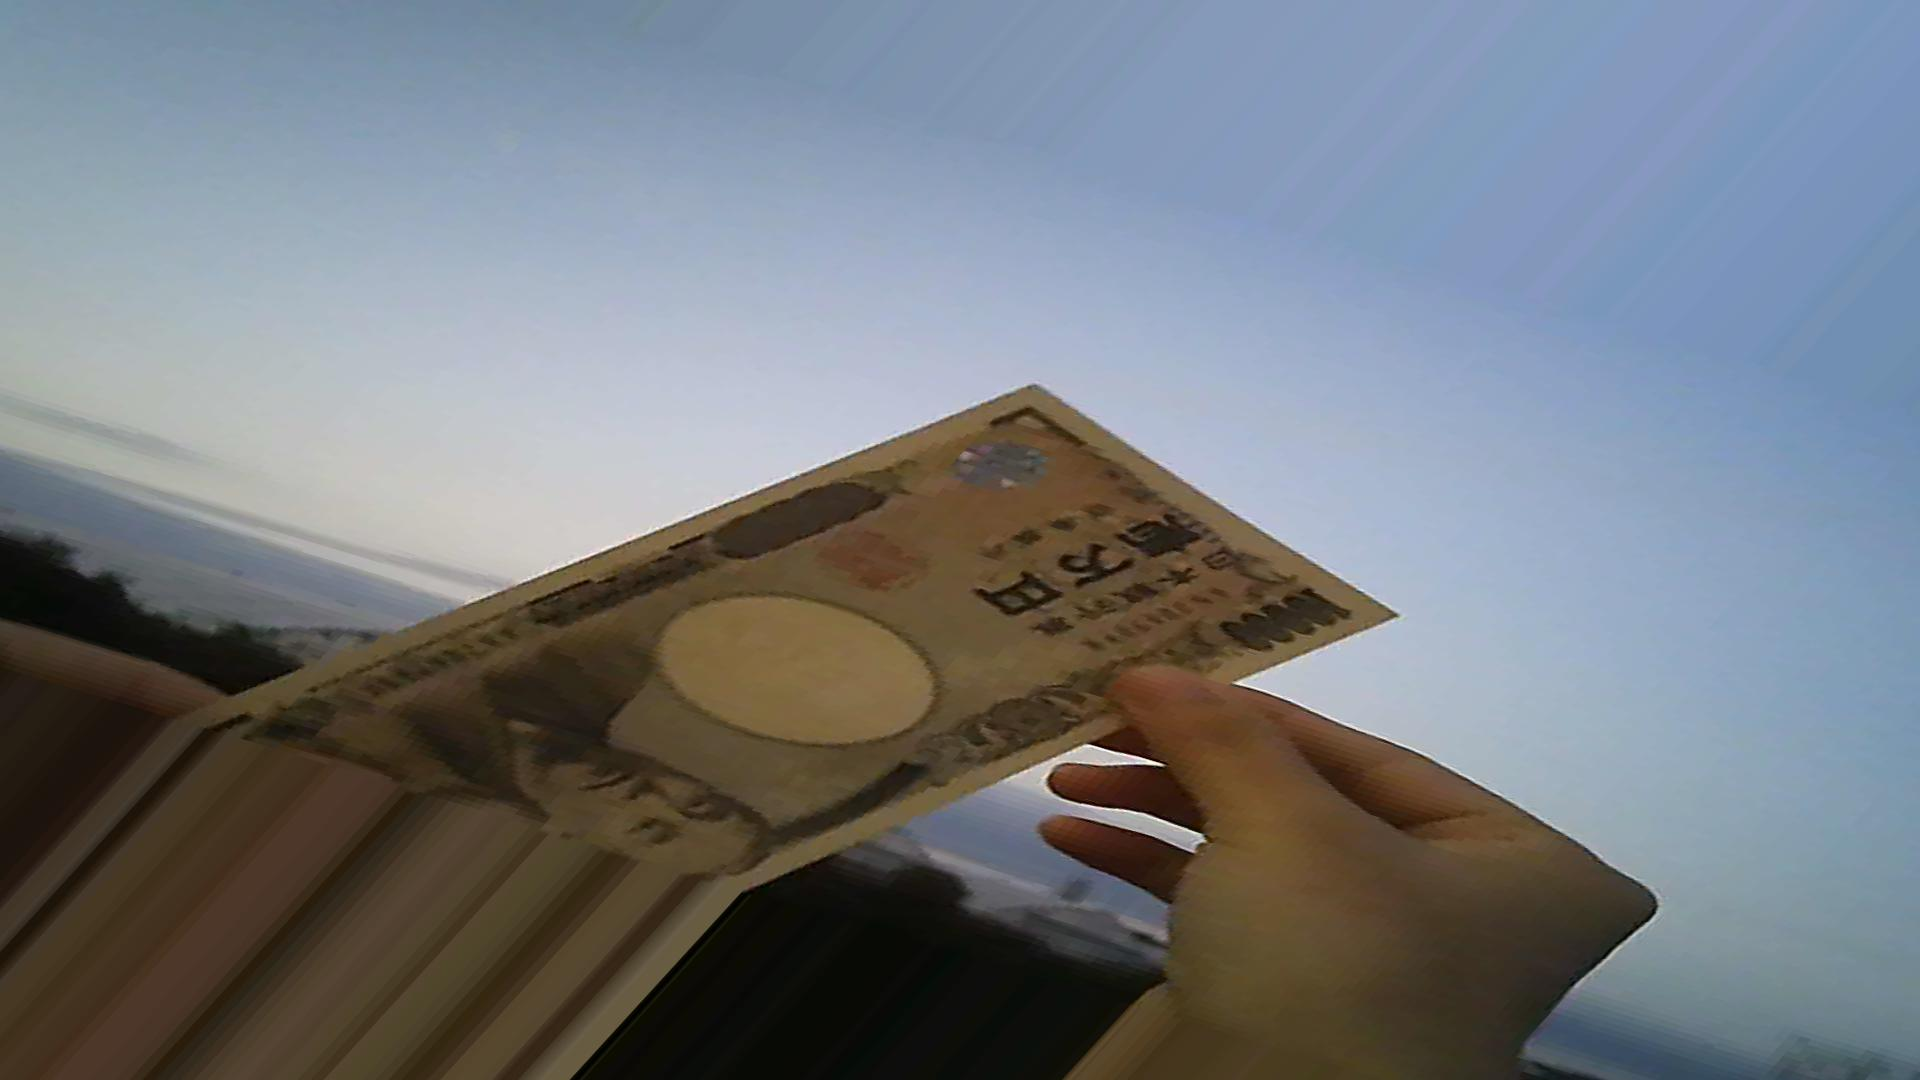10,000 Yen: (231, 316, 1398, 891)
